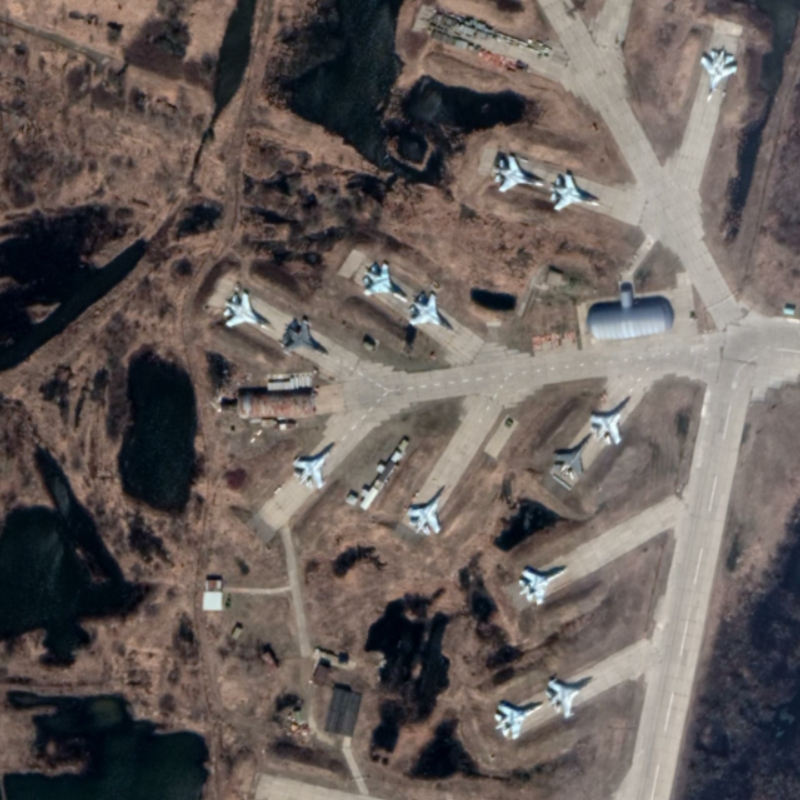A1: (543, 674, 597, 720), (221, 289, 276, 333), (290, 441, 338, 491), (515, 565, 572, 607), (699, 48, 740, 105), (491, 153, 546, 194), (406, 485, 448, 538), (546, 172, 602, 211), (361, 261, 410, 305), (491, 701, 546, 740), (406, 291, 457, 333), (277, 317, 331, 356), (553, 432, 595, 482), (589, 404, 628, 446)
